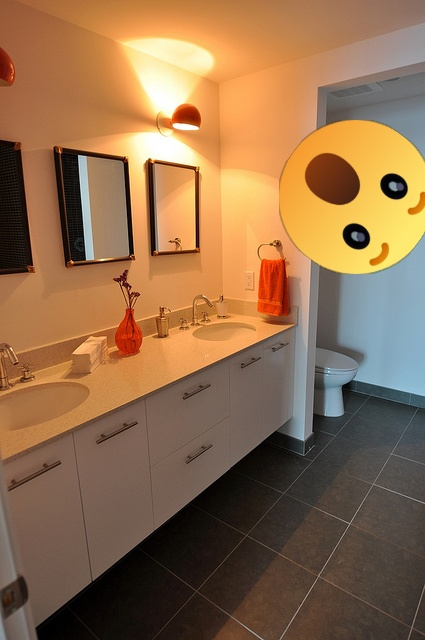wow: (279, 120, 425, 274)
